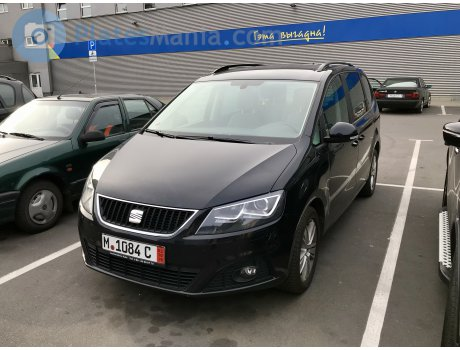License Plates: (99, 232, 153, 256)
